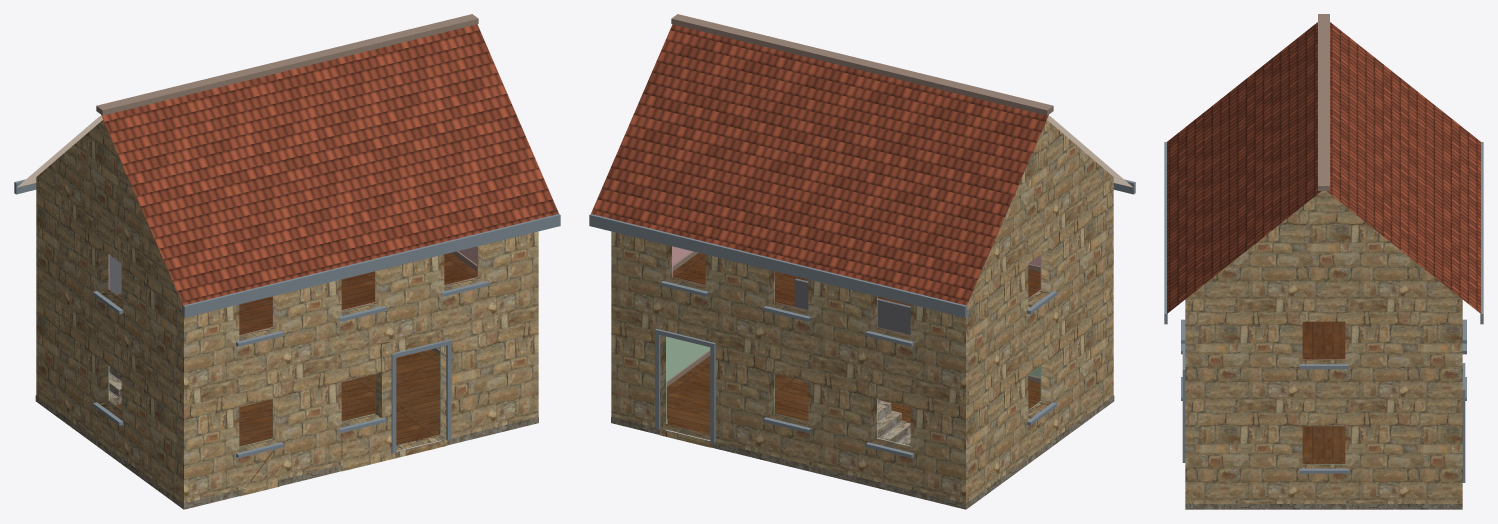
Rendered from cottage-stone.reveal-v1.lod0.glb.
3 views of the same model, side by side, from view 1: azimuth 30°, elevation 25°; view 2: azimuth 150°, elevation 25°; view 3: azimuth 270°, elevation 25° (orthographic). The views are drawn at different scales.
Parts seen in each view (by area): view 1: cottage-stone; view 2: cottage-stone; view 3: cottage-stone.
Part boxes in pixels (x1,y1,x2,y2): cottage-stone: (14, 14, 560, 509); cottage-stone: (589, 14, 1135, 509); cottage-stone: (1164, 14, 1483, 509).
Bounding box in the file's own units: 9.54 × 8.5 × 7.48.
Materials: 5 (4 with a texture image).
